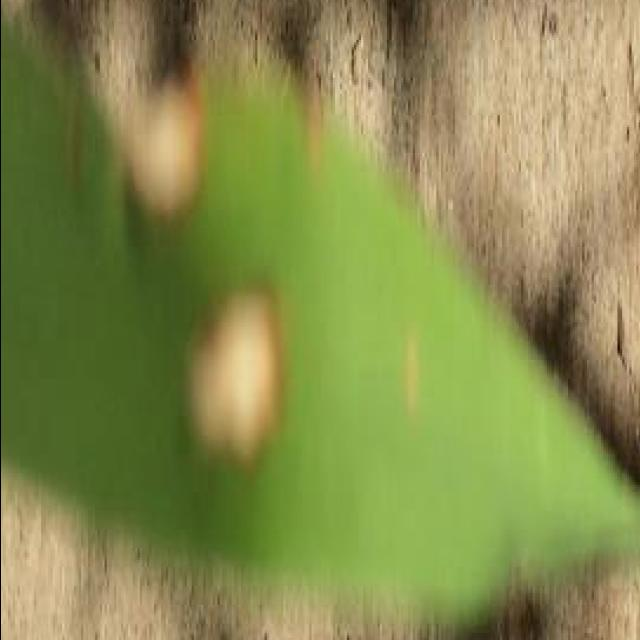Leaf_Blast: (148, 247, 322, 508), (111, 39, 247, 250)
